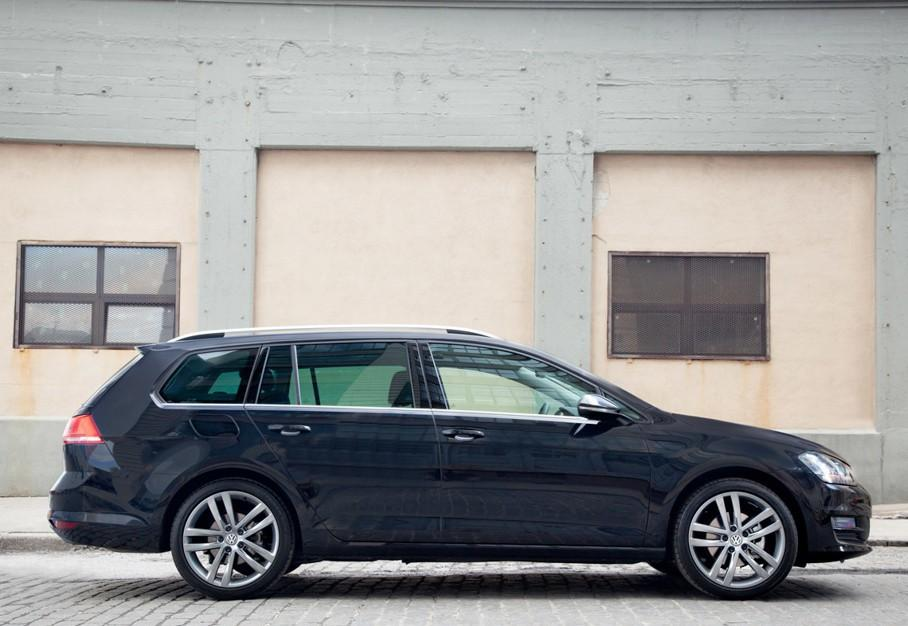Wagon: (48, 325, 873, 599)
